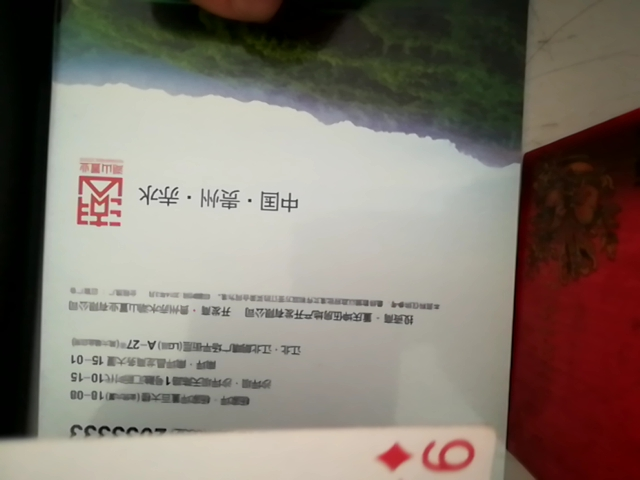fk 9: (9, 417, 559, 480)
